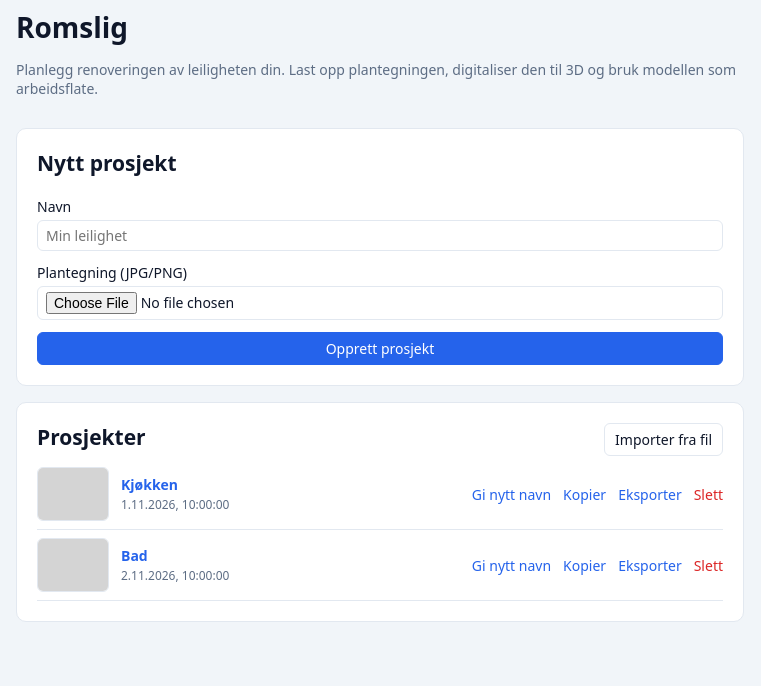
Test case: ProjectList › keeps the rename form open and says why when the rename fails
The image size is (761, 686).
Expected: the link "Kjøkken" is shown, [121,475,178,494]
Click the button "Gi nytt navn" in the row of "Kjøkken".
click(511, 494)  # box [472,484,551,504]
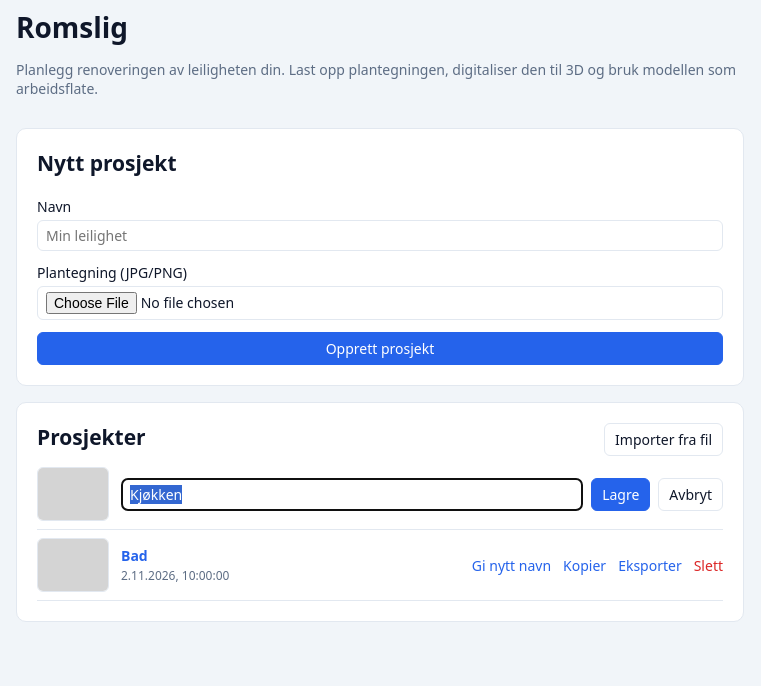
Replace the text in the field named "Nytt navn" with "X" at (352, 494), box [121,478,583,510]
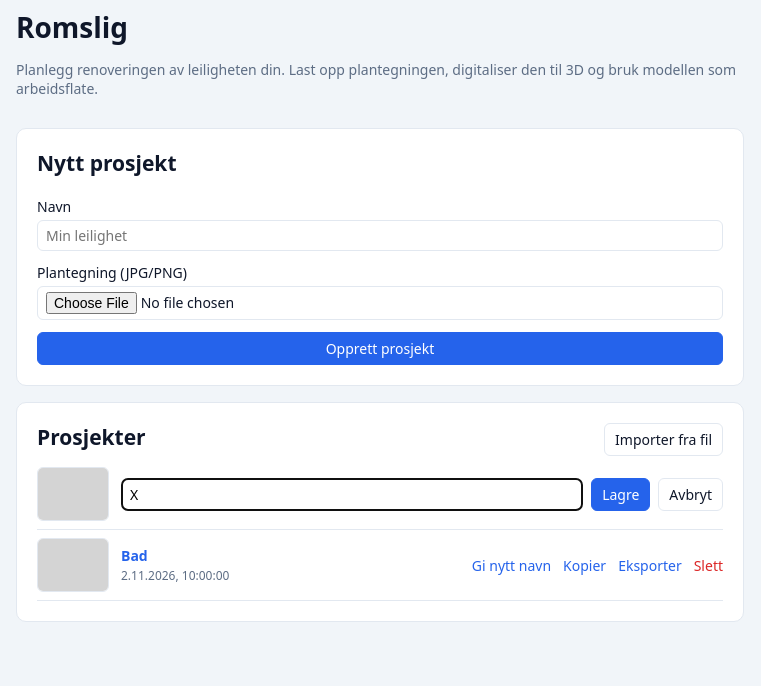
Click the button "Lagre".
click(621, 494)  # box [591,478,650,510]
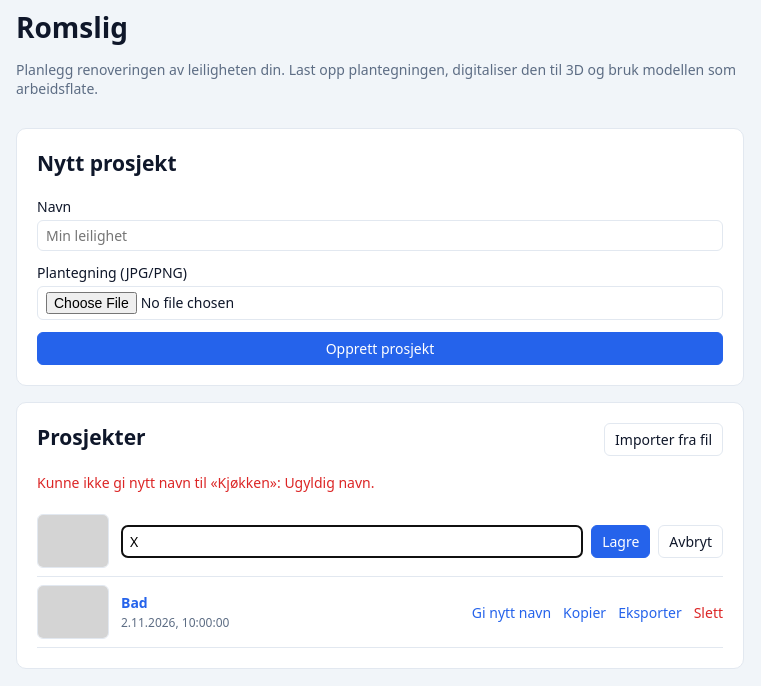
Expected: the message reads "Kunne ikke gi nytt navn til «Kjøkken»: Ugyldig navn.", [37,473,374,492]
